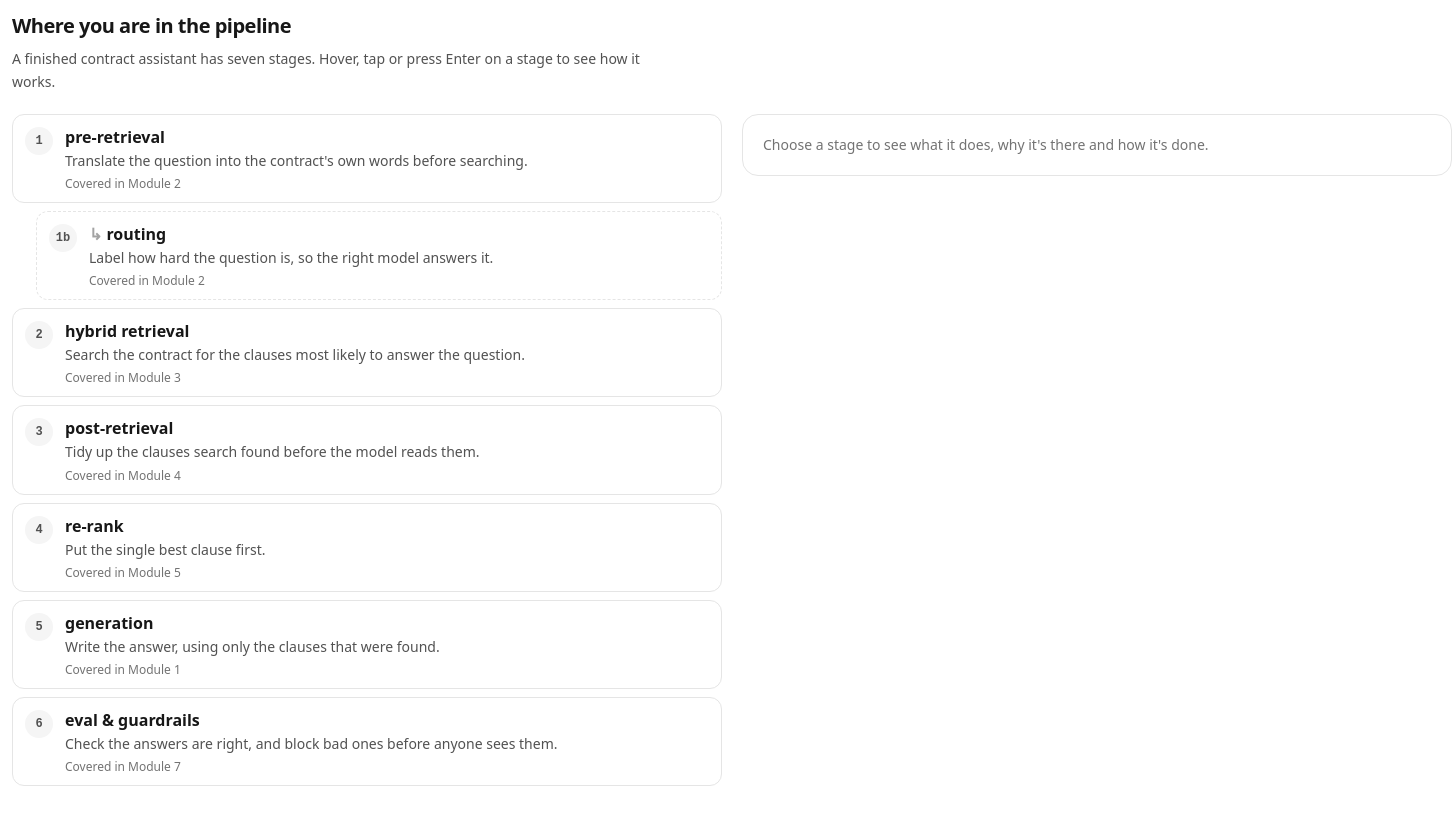
it: PipelineDiagram › expands on tap (touch) without needing hover, and a second tap closes it
Expected: the element named "Stage details" shows "Choose a stage", 763,134 -> 1209,154
Hover over the button with aria-label "[1b]" at {"x": 379, "y": 255}, box 36,211 -> 722,300
Expected: the element named "Stage details" shows "Choose a stage", 763,134 -> 1209,154
Click the button with aria-label "[1b]" at {"x": 379, "y": 255}, box 36,211 -> 722,300
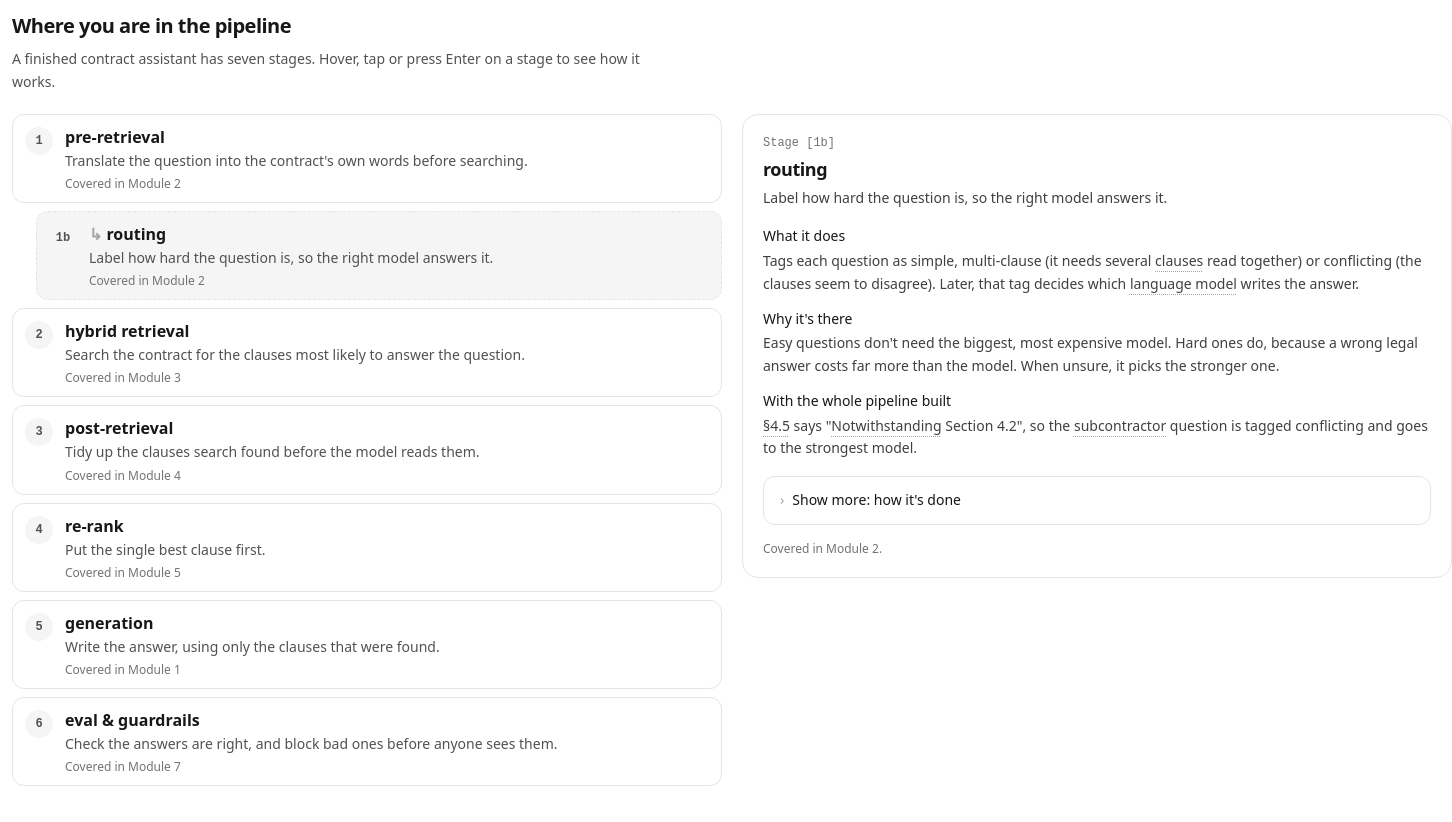
Click the button with aria-label "[1b]" at {"x": 379, "y": 255}, box 36,211 -> 722,300
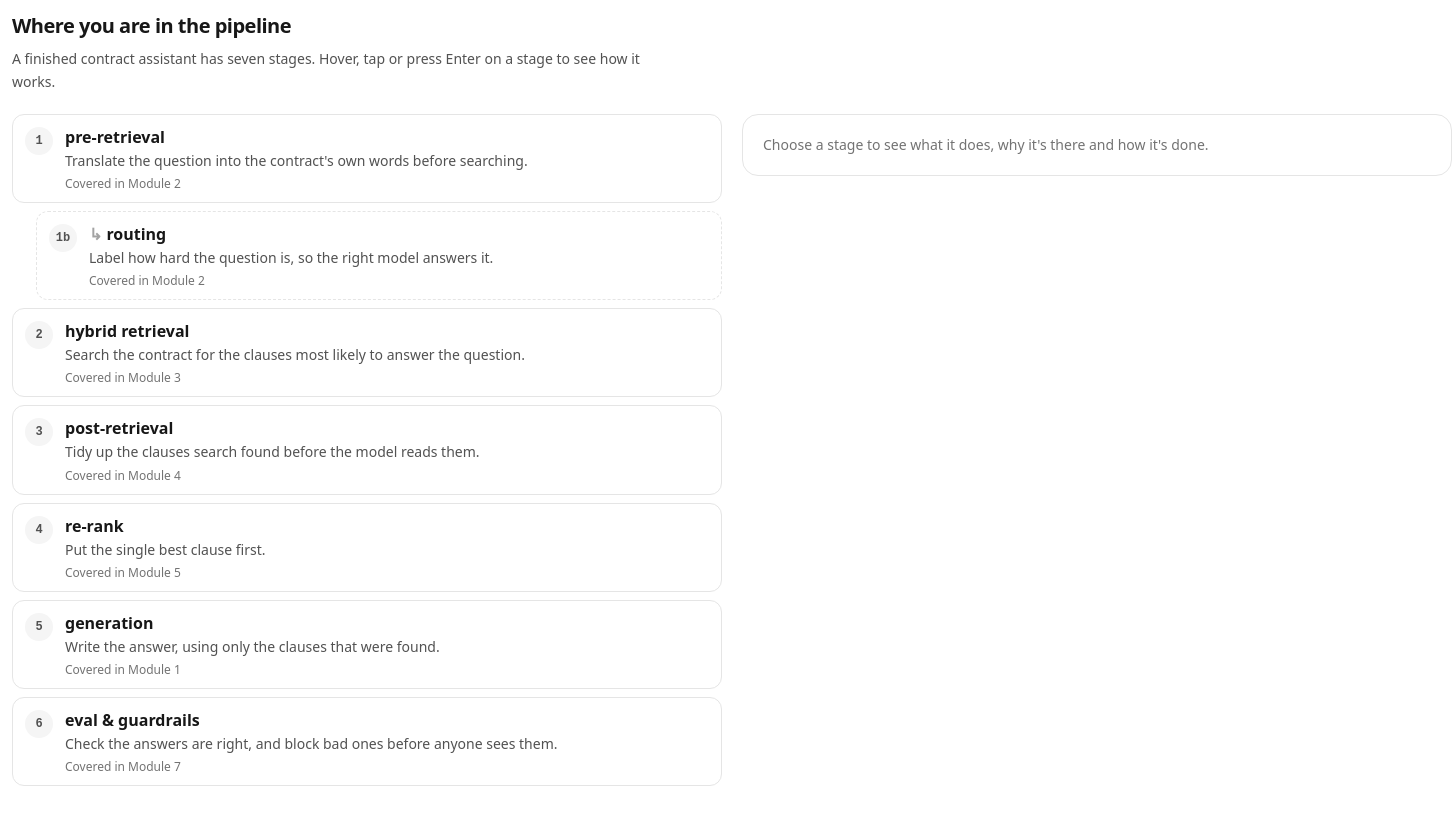
Now the element named "Stage details" shows "Choose a stage", box 763,134 -> 1209,154
